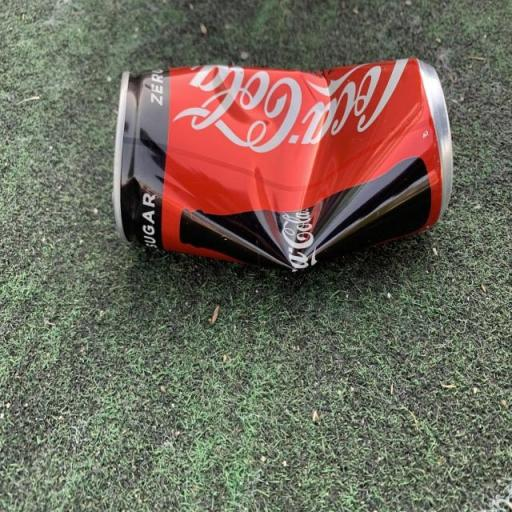metal: (90, 40, 466, 296)
